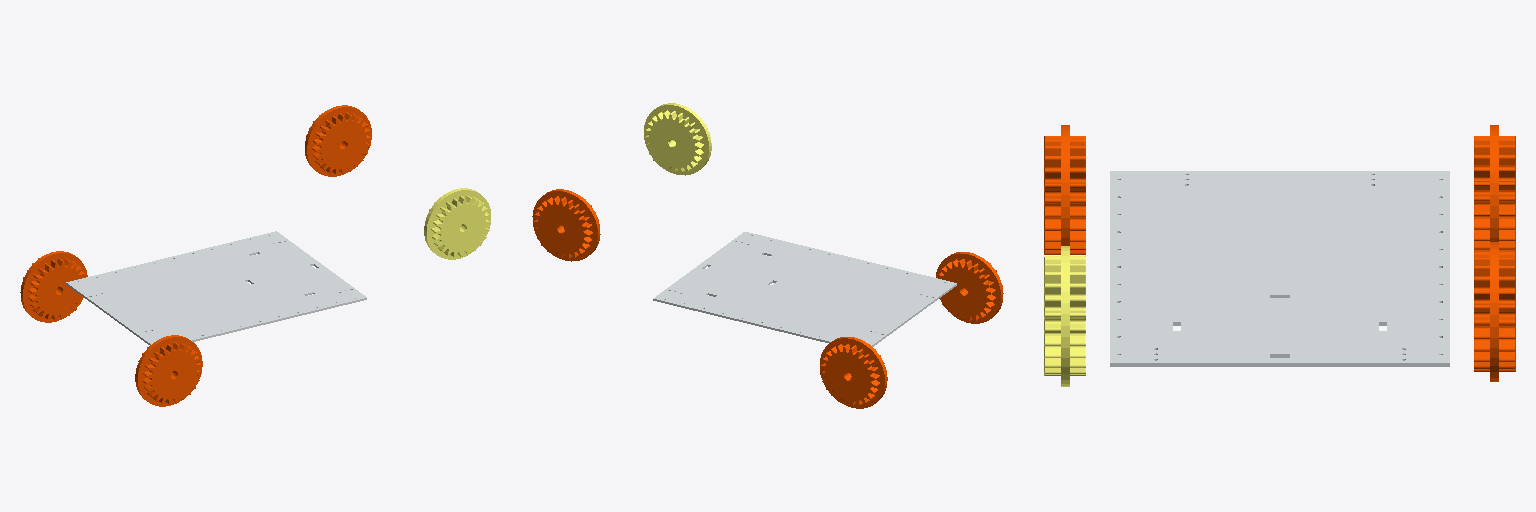
The robot description file, URDF, robot "drok3_description2":
<?xml version="1.0" encoding="utf-8"?>
<!-- This URDF was automatically created by SolidWorks to URDF Exporter! Originally created by [author] ([email redacted]) 
     Commit Version: 1.6.0-1-g15f4949  Build Version: 1.6.7594.29634
     For more information, please see http://wiki.ros.org/sw_urdf_exporter -->
<robot
  name="drok3_description2">
  <link
    name="base_footprint_link">
    <inertial>
      <origin
        xyz="-1.25317946727543E-05 0 0.113005302816333"
        rpy="0 0 0" />
      <mass
        value="3.02141422902365" />
      <inertia
        ixx="0.0423835325539121"
        ixy="-1.16406809588335E-16"
        ixz="3.76629582774629E-08"
        iyy="0.0758033294719559"
        iyz="2.81992537937316E-18"
        izz="0.118174283651174" />
    </inertial>
    <visual>
      <origin
        xyz="0 0 0"
        rpy="0 0 0" />
      <geometry>
        <mesh
          filename="package://drok3_description2/meshes/base_footprint_link.STL" />
      </geometry>
      <material
        name="">
        <color
          rgba="0.898039215686275 0.917647058823529 0.929411764705882 1" />
      </material>
    </visual>
    <!--<collision>
      <origin
        xyz="0 0 0"
        rpy="0 0 0" />
      <geometry>
        <mesh
          filename="package://drok3_description2/meshes/base_footprint_link.STL" />
      </geometry>
    </collision>-->
  </link>
  <link
    name="base_link">
    <inertial>
      <origin
        xyz="0.0916307721495936 -0.000335907486689213 0.0569327313017182"
        rpy="0 0 0" />
      <mass
        value="38.3049580066646" />
      <inertia
        ixx="0.189675133128325"
        ixy="-6.87158011192175E-05"
        ixz="-0.111395385918992"
        iyy="0.808757796453613"
        iyz="-7.34722853353462E-05"
        izz="0.813726568476578" />
    </inertial>
    <visual>
      <origin
        xyz="0 0 0"
        rpy="0 0 0" />
      <geometry>
        <mesh
          filename="package://drok3_description2/meshes/base_link.STL" />
      </geometry>
      <material
        name="">
        <color
          rgba="0.298039215686275 0.298039215686275 0.298039215686275 1" />
      </material>
    </visual>
    <!--<collision>
      <origin
        xyz="0 0 0"
        rpy="0 0 0" />
      <geometry>
        <mesh
          filename="package://drok3_description2/meshes/base_link.STL" />
      </geometry>
    </collision>-->
  </link>
  <joint
    name="base_link_joint"
    type="fixed">
    <origin
      xyz="0 0 0.1105"
      rpy="0 0 0" />
    <parent
      link="base_footprint_link" />
    <child
      link="base_link" />
    <axis
      xyz="0 0 0" />
  </joint>
  <link
    name="R1_link">
    <inertial>
      <origin
        xyz="-2.97278207574136E-06 0 -2.08206009358336E-06"
        rpy="0 0 0" />
      <mass
        value="0.697502716828587" />
      <inertia
        ixx="0.00107179989446096"
        ixy="-3.17556586931068E-18"
        ixz="-1.07013112858152E-08"
        iyy="0.00188983973588254"
        iyz="9.0339996868056E-19"
        izz="0.00107180767895577" />
    </inertial>
    <visual>
      <origin
        xyz="0 0 0"
        rpy="0 0 0" />
      <geometry>
        <mesh
          filename="package://drok3_description2/meshes/R1_link.STL" />
      </geometry>
      <material
        name="">
        <color
          rgba="1.0 0.4 0.0308039215686275 0" />
      </material>
    </visual>
    <collision>
      <origin
        xyz="0 0 0"
        rpy="0 0 0" />
      <geometry>
        <mesh
          filename="package://drok3_description2/meshes/R1_link.STL" />
      </geometry>
    </collision>
  </link>
  <joint
    name="R1_link_joint"
    type="continuous">
    <origin
      xyz="-0.27424 -0.25972 -0.028"
      rpy="0 0 0" />
    <parent
      link="base_link" />
    <child
      link="R1_link" />
    <axis
      xyz="0 1 0" />
  </joint>
  <link
    name="R2_link">
    <inertial>
      <origin
        xyz="-3.60518028585943E-06 0 -4.18428738963028E-07"
        rpy="0 0 0" />
      <mass
        value="0.697502716828588" />
      <inertia
        ixx="0.00107179270224566"
        ixy="-3.20129434385429E-18"
        ixz="-2.60812953021254E-09"
        iyy="0.00188983973588254"
        iyz="9.59223116284526E-19"
        izz="0.00107181487117107" />
    </inertial>
    <visual>
      <origin
        xyz="0 0 0"
        rpy="0 0 0" />
      <geometry>
        <mesh
          filename="package://drok3_description2/meshes/R2_link.STL" />
      </geometry>
      <material
        name="">
        <color
          rgba="1.0 0.4 0.0380039215686275 1" />
      </material>
    </visual>
    <collision>
      <origin
        xyz="0 0 0"
        rpy="0 0 0" />
      <geometry>
        <mesh
          filename="package://drok3_description2/meshes/R2_link.STL" />
      </geometry>
    </collision>
  </link>
  <joint
    name="R2_link_joint"
    type="continuous">
    <origin
      xyz="0.27576 -0.25972 -0.028"
      rpy="0 0 0" />
    <parent
      link="base_link" />
    <child
      link="R2_link" />
    <axis
      xyz="0 1 0" />
  </joint>
  <link
    name="R3_link">
    <inertial>
      <origin
        xyz="3.24700269704881E-06 -5.55111512312578E-17 1.62153661337205E-06"
        rpy="0 0 0" />
      <mass
        value="0.697502716828588" />
      <inertia
        ixx="0.00107179694558754"
        ixy="-3.07511556235849E-18"
        ixz="-9.10311589437715E-09"
        iyy="0.00188983973588254"
        iyz="7.7907126344076E-19"
        izz="0.00107181062782919" />
    </inertial>
    <visual>
      <origin
        xyz="0 0 0"
        rpy="0 0 0" />
      <geometry>
        <mesh
          filename="package://drok3_description2/meshes/R3_link.STL" />
      </geometry>
      <material
        name="">
        <color
          rgba="102 51 0.498039215686275 1" />
      </material>
    </visual>
    <collision>
      <origin
        xyz="0 0 0"
        rpy="0 0 0" />
      <geometry>
        <mesh
          filename="package://drok3_description2/meshes/R3_link.STL" />
      </geometry>
    </collision>
  </link>
  <joint
    name="R3_link_joint"
    type="continuous">
    <origin
      xyz="0.48054 -0.25972 0.16296"
      rpy="0 0 0" />
    <parent
      link="base_link" />
    <child
      link="R3_link" />
    <axis
      xyz="0 1 0" />
  </joint>
  <link
    name="L1_link">
    <inertial>
      <origin
        xyz="-3.60518028584556E-06 -1.11022302462516E-16 -4.18428738963028E-07"
        rpy="0 0 0" />
      <mass
        value="0.697502716828587" />
      <inertia
        ixx="0.00107179270224566"
        ixy="-3.16860373019229E-18"
        ixz="-2.6081295301747E-09"
        iyy="0.00188983973588254"
        iyz="7.92650267045416E-19"
        izz="0.00107181487117107" />
    </inertial>
    <visual>
      <origin
        xyz="0 0 0"
        rpy="0 0 0" />
      <geometry>
        <mesh
          filename="package://drok3_description2/meshes/L1_link.STL" />
      </geometry>
      <material
        name="">
        <color
          rgba="1.0 0.4 0.0308039215686275 1" />
      </material>
    </visual>
    <collision>
      <origin
        xyz="0 0 0"
        rpy="0 0 0" />
      <geometry>
        <mesh
          filename="package://drok3_description2/meshes/L1_link.STL" />
      </geometry>
    </collision>
  </link>
  <joint
    name="L1_link_joint"
    type="continuous">
    <origin
      xyz="-0.27424 0.25972 -0.028"
      rpy="0 0 0" />
    <parent
      link="base_link" />
    <child
      link="L1_link" />
    <axis
      xyz="0 1 0" />
  </joint>
  <link
    name="L2_link">
    <inertial>
      <origin
        xyz="-3.60518028585943E-06 -1.11022302462516E-16 -4.1842873894915E-07"
        rpy="0 0 0" />
      <mass
        value="0.697502716828589" />
      <inertia
        ixx="0.00107179270224566"
        ixy="-3.18775432759348E-18"
        ixz="-2.6081295302701E-09"
        iyy="0.00188983973588254"
        iyz="8.03792722455923E-19"
        izz="0.00107181487117107" />
    </inertial>
    <visual>
      <origin
        xyz="0 0 0"
        rpy="0 0 0" />
      <geometry>
        <mesh
          filename="package://drok3_description2/meshes/L2_link.STL" />
      </geometry>
      <material
        name="">
        <color
          rgba="1.0 0.4 0.0308039215686275 1" />
      </material>
    </visual>
    <collision>
      <origin
        xyz="0 0 0"
        rpy="0 0 0" />
      <geometry>
        <mesh
          filename="package://drok3_description2/meshes/L2_link.STL" />
      </geometry>
    </collision>
  </link>
  <joint
    name="L2_link_joint"
    type="continuous">
    <origin
      xyz="0.27576 0.25972 -0.028"
      rpy="0 0 0" />
    <parent
      link="base_link" />
    <child
      link="L2_link" />
    <axis
      xyz="0 1 0" />
  </joint>
  <link
    name="L3_link">
    <inertial>
      <origin
        xyz="-3.50122690040422E-06 -2.22044604925031E-16 9.55938123270439E-07"
        rpy="0 0 0" />
      <mass
        value="0.697502716828588" />
      <inertia
        ixx="0.00107179397947648"
        ixy="-3.27890477552922E-18"
        ixz="5.78669645348872E-09"
        iyy="0.00188983973588254"
        iyz="7.58660421249286E-19"
        izz="0.00107181359394025" />
    </inertial>
    <visual>
      <origin
        xyz="0 0 0"
        rpy="0 0 0" />
      <geometry>
        <mesh
          filename="package://drok3_description2/meshes/L3_link.STL" />
      </geometry>
      <material
        name="">
        <color
          rgba="1.0 0.4 0.0308039215686275 1" />
      </material>
    </visual>
    <collision>
      <origin
        xyz="0 0 0"
        rpy="0 0 0" />
      <geometry>
        <mesh
          filename="package://drok3_description2/meshes/L3_link.STL" />
      </geometry>
    </collision>
  </link>
  <joint
    name="L3_link_joint"
    type="continuous">
    <origin
      xyz="0.46841 0.25972 0.16296"
      rpy="0 0 0" />
    <parent
      link="base_link" />
    <child
      link="L3_link" />
    <axis
      xyz="0 1 0" />
  </joint>

<gazebo>
  <plugin name="skid_steer_drive_controller" filename="libgazebo_ros_skid_steer_drive.so">
    <updateRate>100.0</updateRate>
    <robotNamespace>/</robotNamespace>
    <leftFrontJoint>L2_link_joint</leftFrontJoint>
    <rightFrontJoint>R2_link_joint</rightFrontJoint>
    <leftRearJoint>L1_link_joint</leftRearJoint>
    <rightRearJoint>R1_link_joint</rightRearJoint>
    <wheelSeparation>0.55</wheelSeparation>
    <wheelDiameter>0.170</wheelDiameter>
    <robotBaseFrame>base_link</robotBaseFrame>
    <torque>60</torque>
    <topicName>cmd_vel</topicName>
    <broadcastTF>false</broadcastTF>
  </plugin>
</gazebo>




<gazebo reference="base_link">
    <gravity>false</gravity>
    <sensor name="imu_sensor" type="imu">
      <always_on>true</always_on>
      <update_rate>100</update_rate>
      <visualize>true</visualize>
      <topic>__default_topic__</topic>
      <plugin filename="libgazebo_ros_imu_sensor.so" name="imu_plugin">
        <topicName>imu</topicName>
        <bodyName>base_link</bodyName>
        <updateRateHZ>10.0</updateRateHZ>
        <gaussianNoise>0.0</gaussianNoise>
        <xyzOffset>0 0 0</xyzOffset>
        <rpyOffset>0 0 0</rpyOffset>
        <frameName>base_link</frameName>
        <initialOrientationAsReference>false</initialOrientationAsReference>
      </plugin>
      <pose>0 0 0 0 0 0</pose>
    </sensor>
  </gazebo>


</robot>

--- Facts derived from the render (not from the file) ---
3 views of the same robot in one strip: view 1: azimuth 30°, elevation 25°; view 2: azimuth 150°, elevation 25°; view 3: azimuth 270°, elevation 25° (orthographic).
Robot: drok3_description2 — 8 links, 7 joints (6 continuous, 1 fixed); root link base_footprint_link; default pose: every joint at zero.
Links seen in each view (by area): view 1: base_footprint_link, R1_link, L3_link, R3_link, L1_link; view 2: base_footprint_link, R3_link, L1_link, L3_link, R1_link; view 3: base_footprint_link, R3_link, L3_link, R1_link, L1_link.
Boxes of the visible links, bbox=[...] form: base_footprint_link: bbox=[66, 231, 366, 344]; R1_link: bbox=[135, 335, 202, 406]; L3_link: bbox=[305, 105, 371, 176]; R3_link: bbox=[424, 188, 490, 259]; L1_link: bbox=[20, 251, 87, 322]; base_footprint_link: bbox=[653, 232, 956, 346]; R3_link: bbox=[644, 103, 711, 175]; L1_link: bbox=[820, 337, 887, 408]; L3_link: bbox=[532, 189, 600, 261]; R1_link: bbox=[936, 252, 1003, 323]; base_footprint_link: bbox=[1110, 171, 1449, 366]; R3_link: bbox=[1044, 246, 1085, 386]; L3_link: bbox=[1474, 242, 1515, 381]; R1_link: bbox=[1044, 125, 1085, 254]; L1_link: bbox=[1474, 125, 1515, 252].
Bounding box of the posed robot: 0.9246 × 0.5694 × 0.3609 m (x, y, z).
Meshes: 8 distinct files referenced, 5 mesh visuals loaded (5 binary STL); not drawn: 3 (reference not matched to a file when rendering).